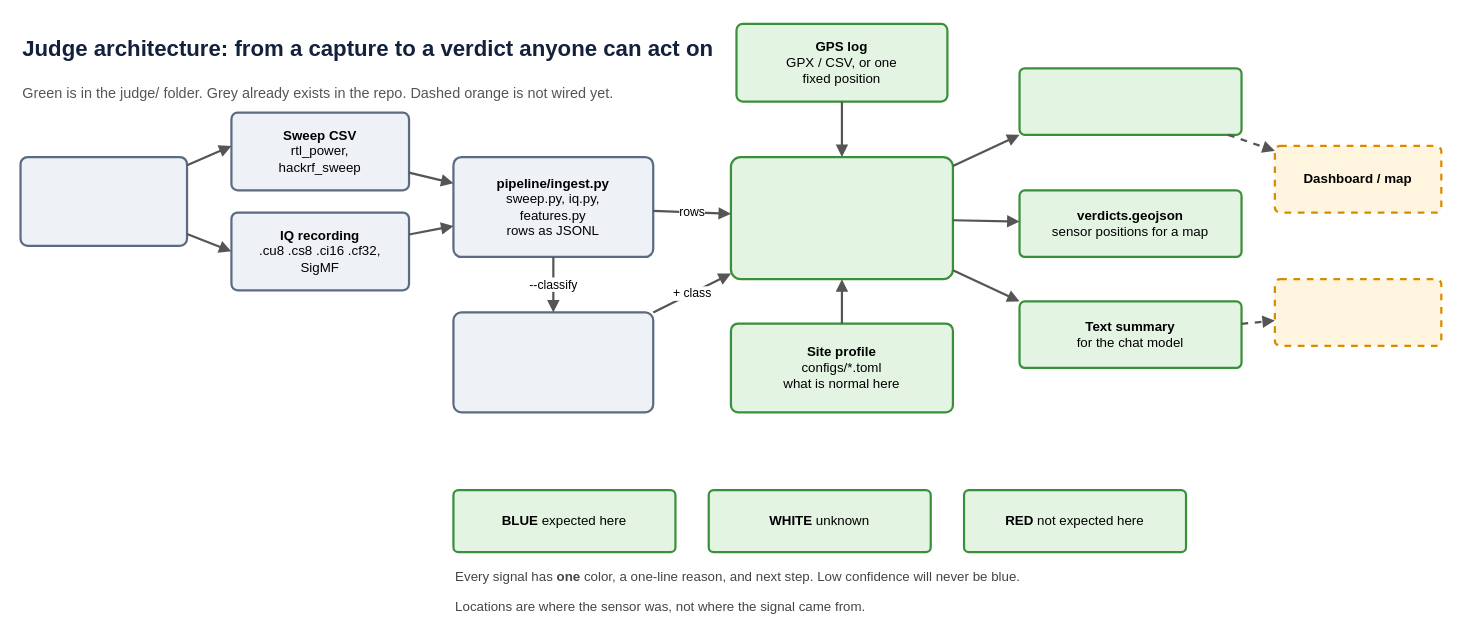
The diagram is 1461 pixels wide and 639 high, and some of its shapes have lost their labels. The shapes that lost their labels are listed below. From the top down, each one's centre as x and y in pixels, then its label:
At [1130,101]: "report.json counts, verdicts, reasons".
At [103,200]: "Radio RTL-SDR / HackRF receive-only".
At [841,217]: "judge/ (argus_judge) 8 rules, first match wins jamming check location".
At [1357,312]: "Chat".
At [553,362]: "mod-classifier mcls.infer (IQ only) signal_class + calibrated confidence".
